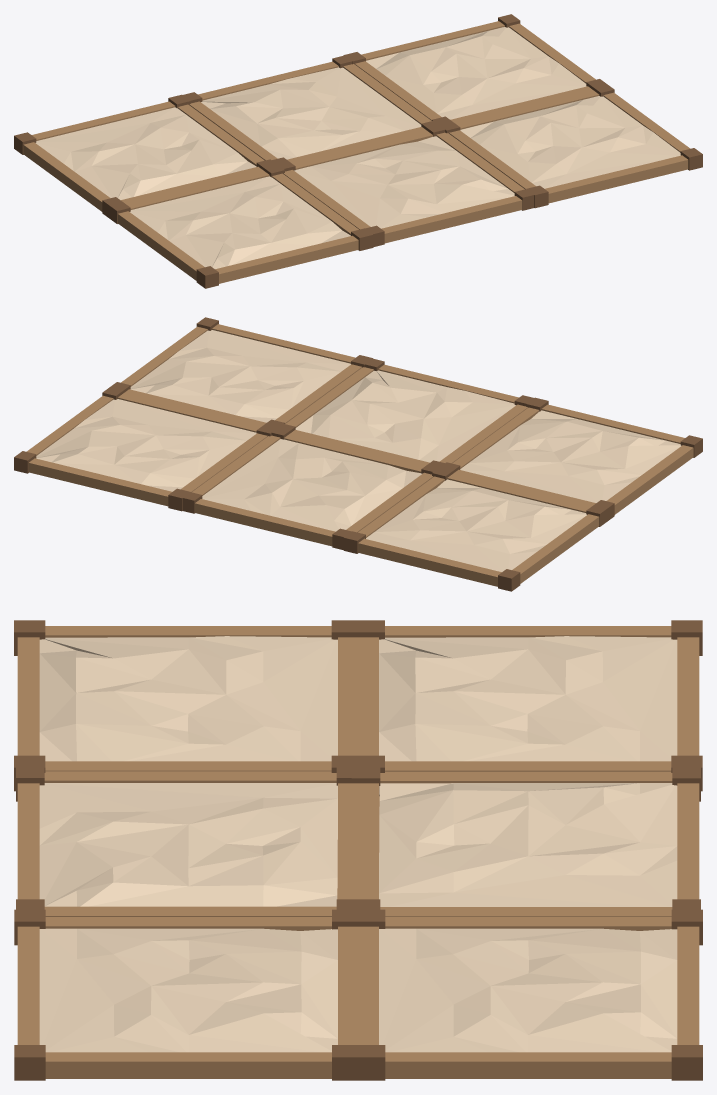
The model's file is SM_sandbox_playground_02.fbx.
3 renders of one model, top to bottom at view 1: azimuth 30°, elevation 25°; view 2: azimuth 150°, elevation 25°; view 3: azimuth 270°, elevation 25°, orthographic. The views are drawn at different scales.
Visible parts, largest first — view 1: Box5746; view 2: Box5746; view 3: Box5746.
Part boxes in pixels (x1,y1,x2,y2): Box5746: (14, 14, 702, 288); Box5746: (14, 317, 702, 591); Box5746: (14, 620, 702, 1080).
Size of the model in its own units: 331 by 9.67 by 221.
